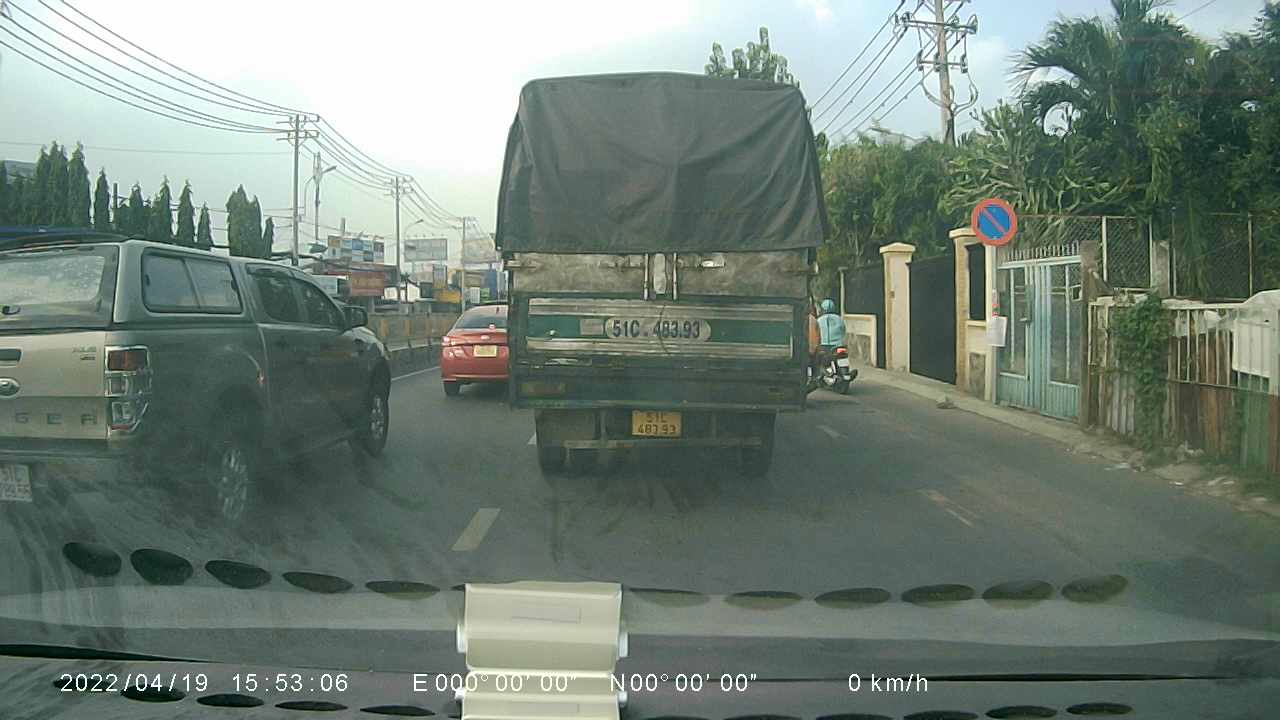Cam do xe: (971, 198, 1020, 249)
